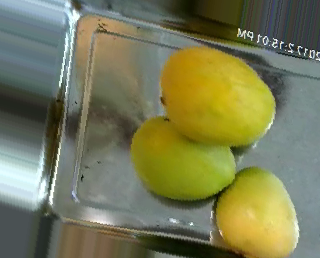Mango: (158, 44, 275, 149), (127, 113, 239, 202), (216, 167, 301, 251)
